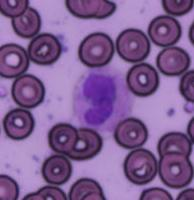N: (71, 66, 133, 132)
